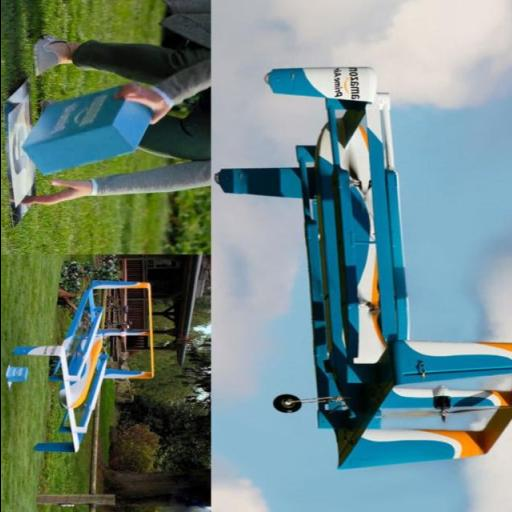uav: (210, 44, 512, 478)
